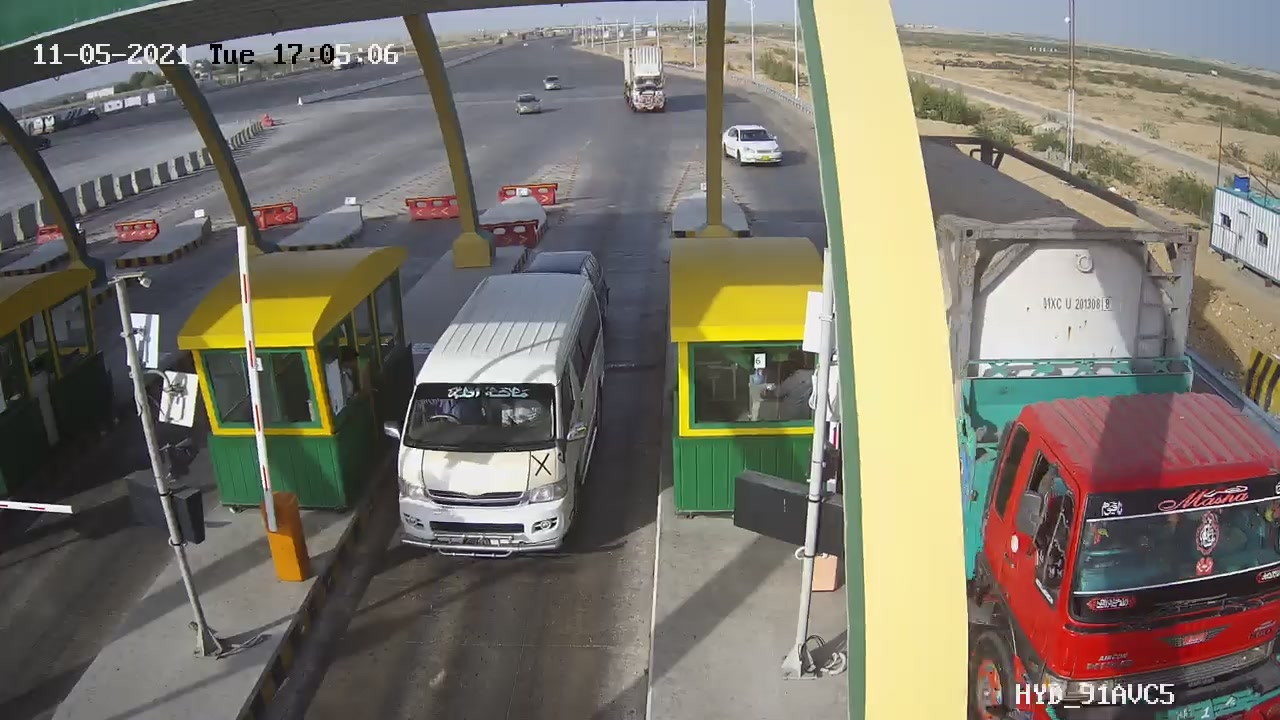F2: (361, 259, 629, 582)
